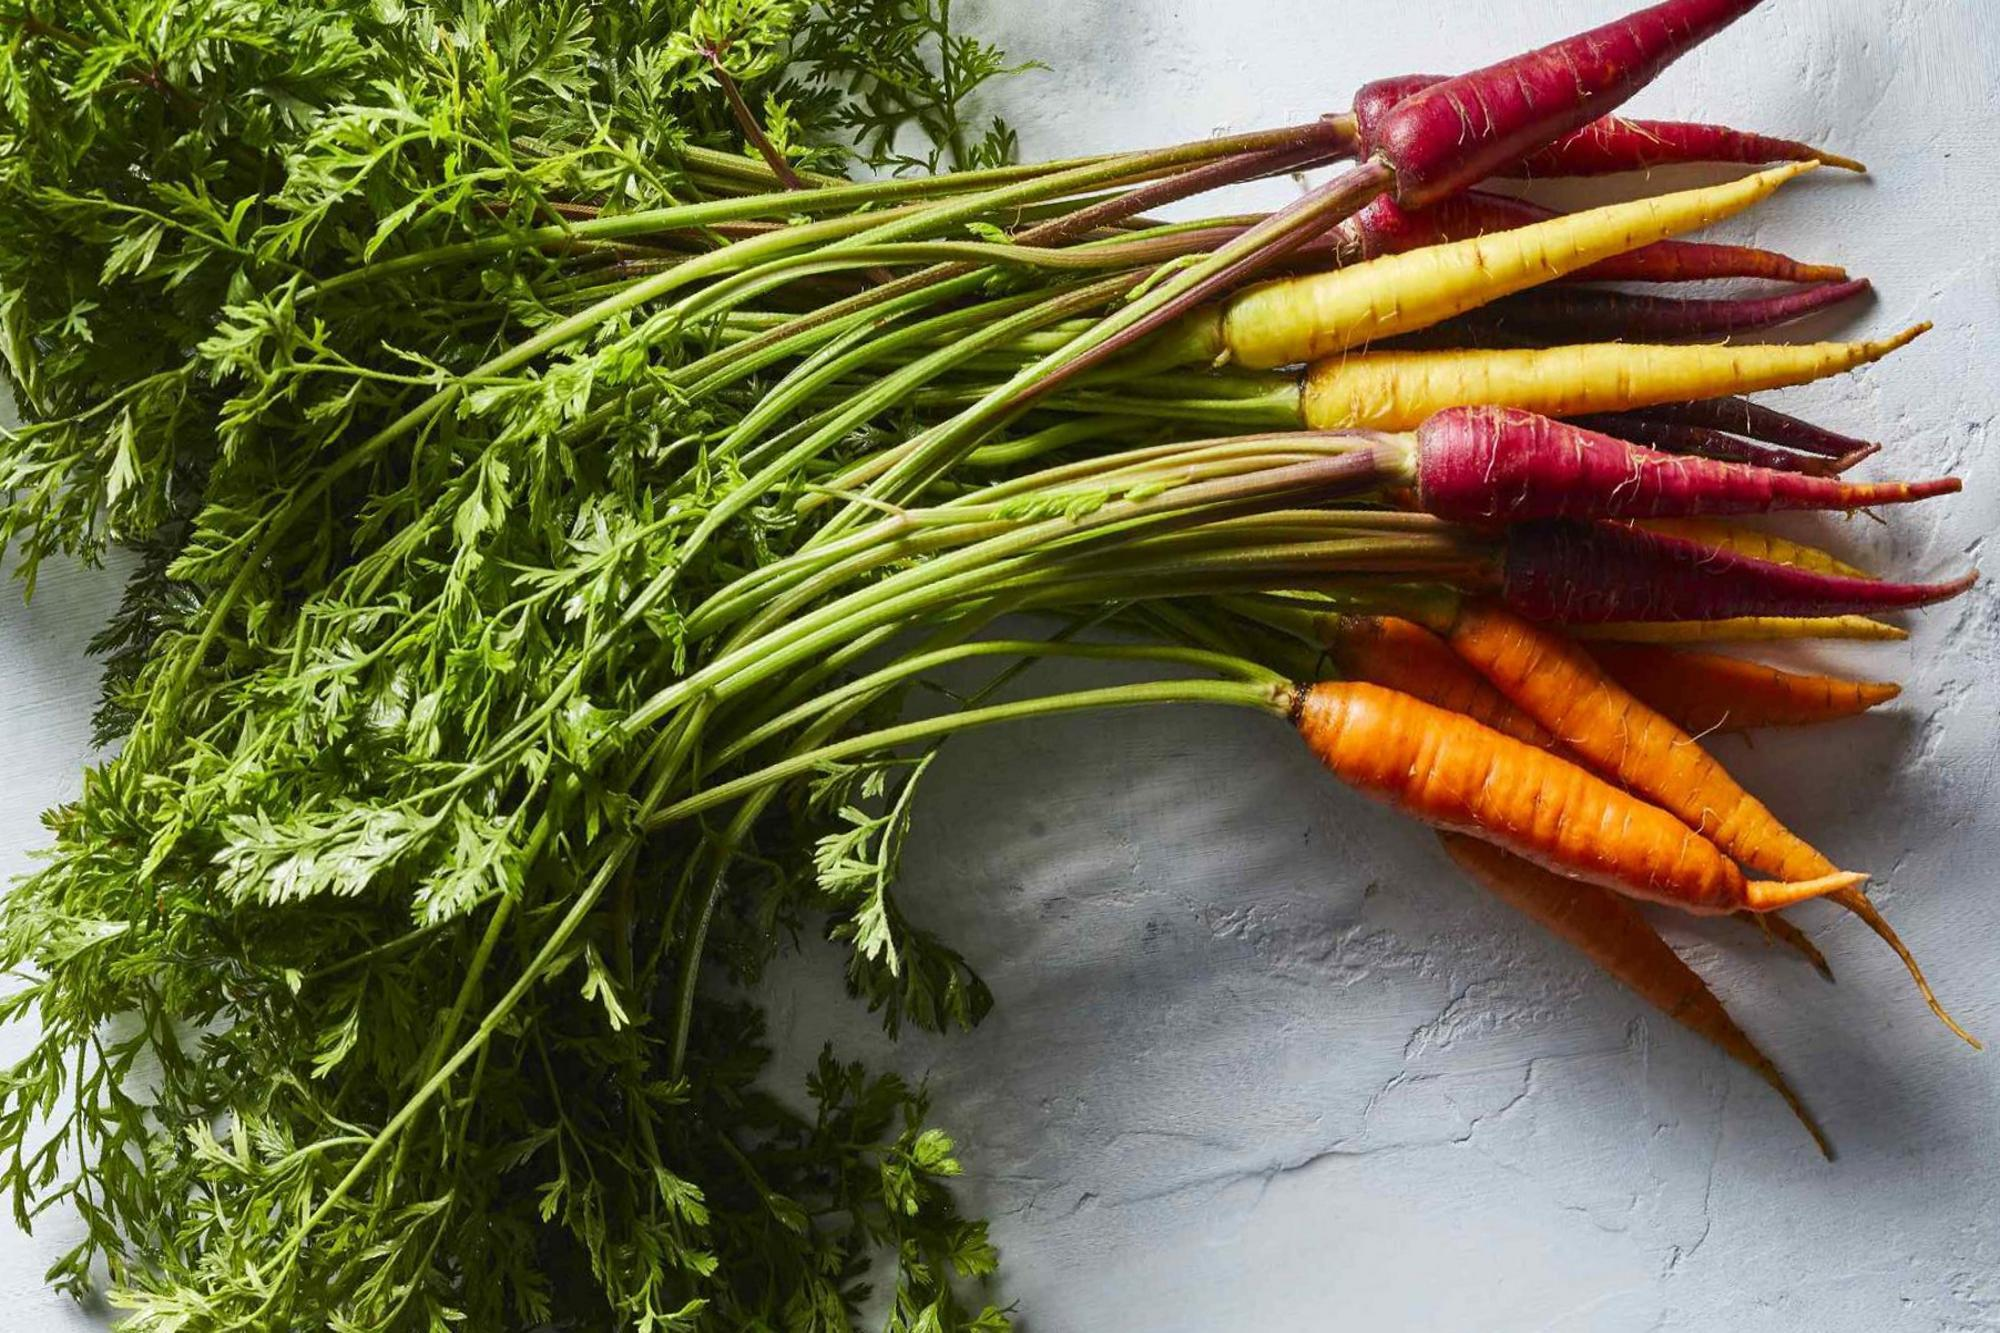carrot: (1265, 643, 1948, 957), (1175, 205, 1784, 420), (1237, 292, 1912, 406)
